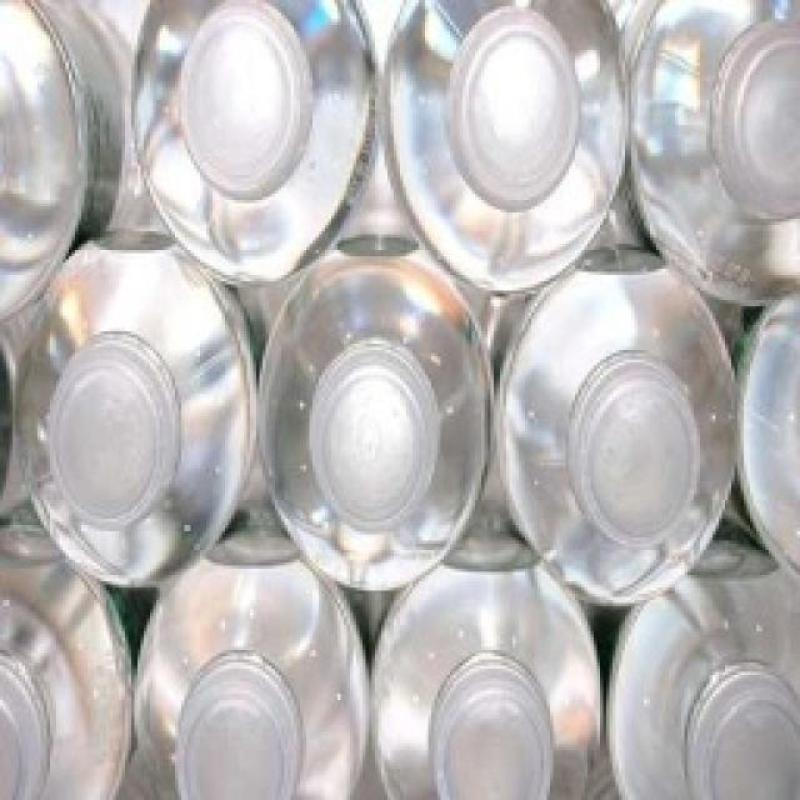botella: (489, 234, 739, 606), (258, 228, 492, 600), (21, 228, 240, 582), (385, 0, 641, 302), (125, 0, 387, 288), (128, 515, 378, 800), (370, 534, 614, 800), (625, 0, 800, 322), (612, 540, 800, 800), (0, 0, 115, 315), (0, 525, 131, 800), (731, 233, 800, 577)
